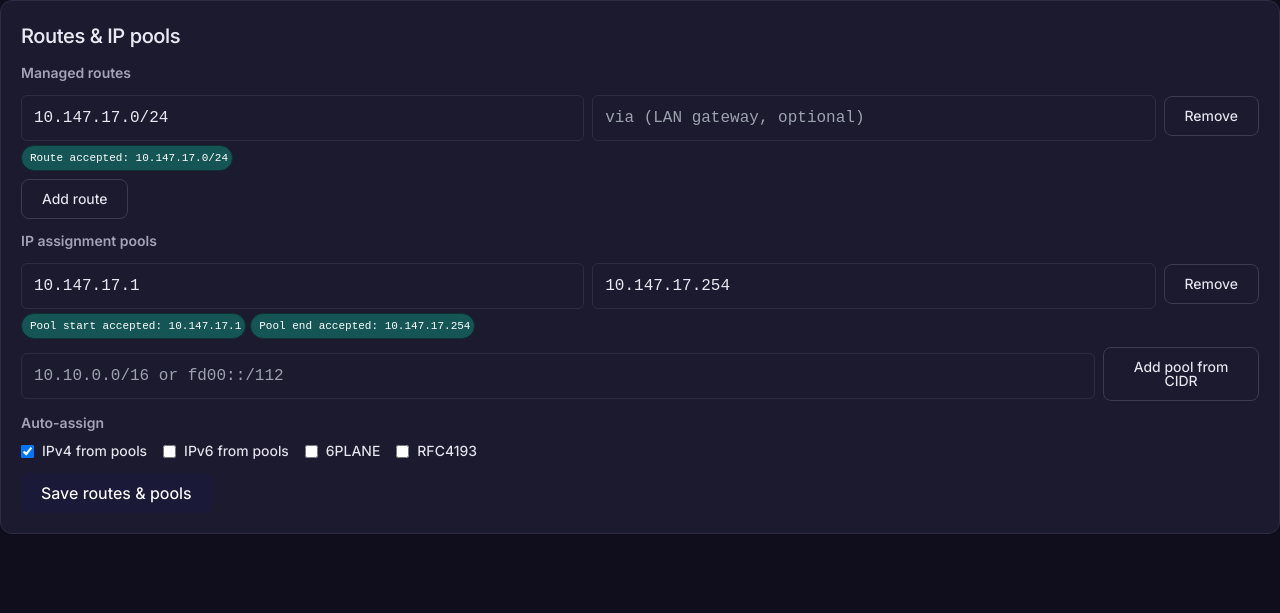
Test: RoutesEditor › shows accepted chips for IPv6 route, pool, and CIDR helper fields (M8)
The width and height of the screenshot is (1280, 613).
Step 1. Replace the text in the field named "route target 1" with "fd00::/112" → coordinates (303, 118), box [21,95,584,141]
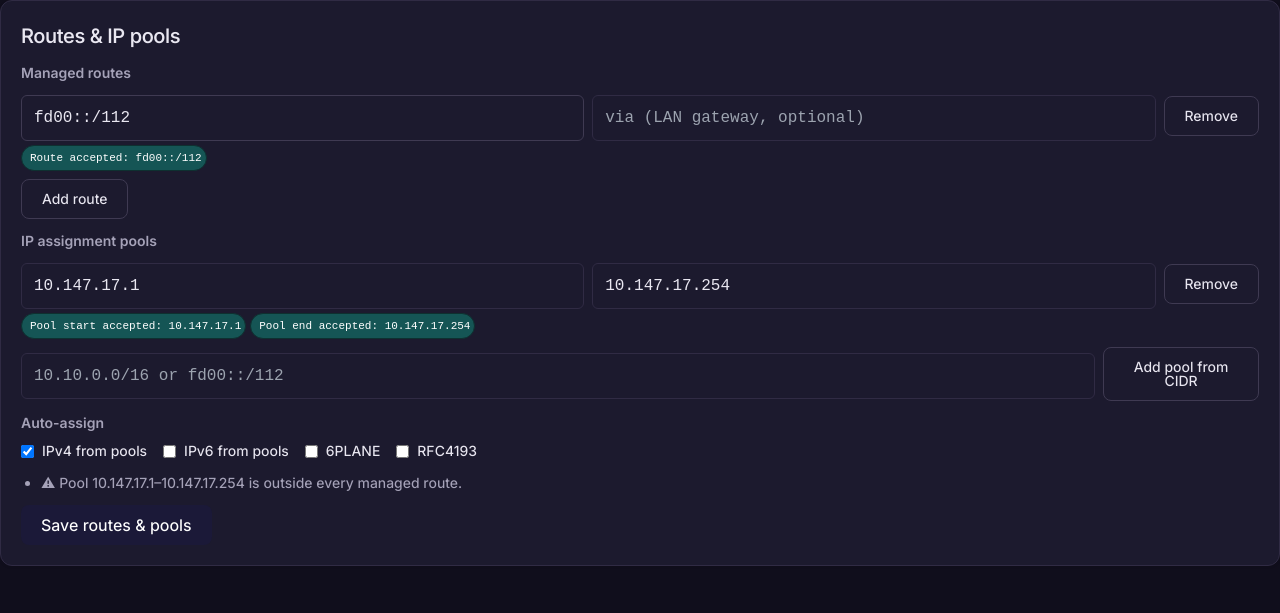
Step 2. Replace the text in the field named "pool start 1" with "fd00::1" → coordinates (303, 286), box [21,263,584,309]
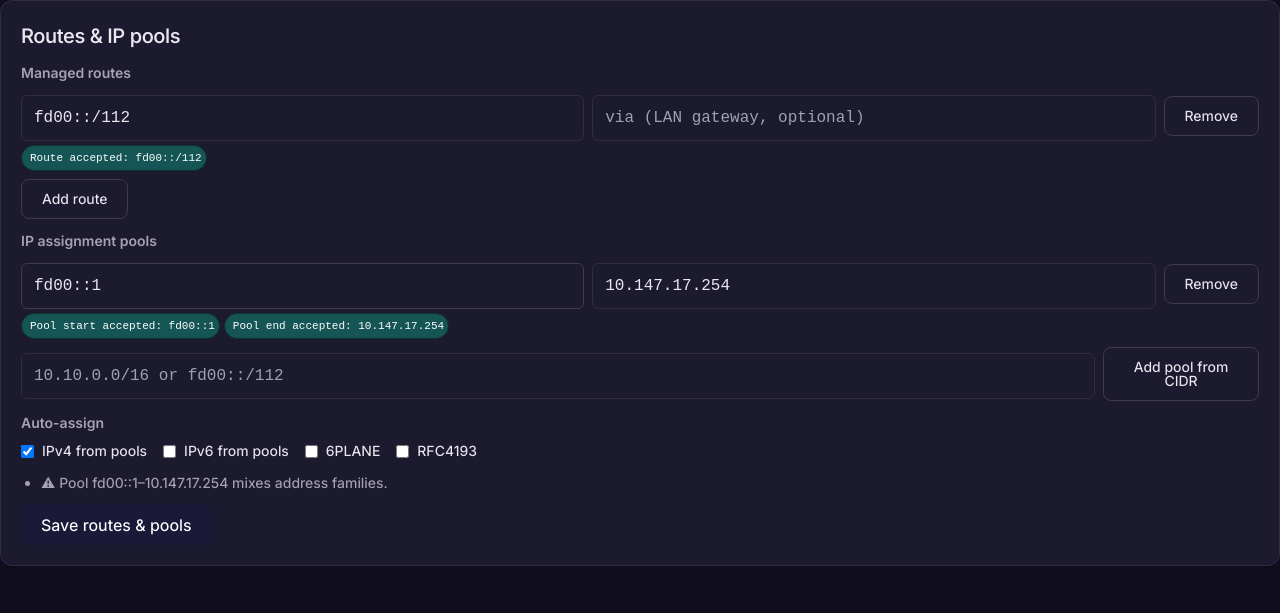
Step 3. Type "fd00::/112" into the field with placeholder "10.10.0.0/16 or fd00::/112" → coordinates (558, 376), box [21,353,1095,399]
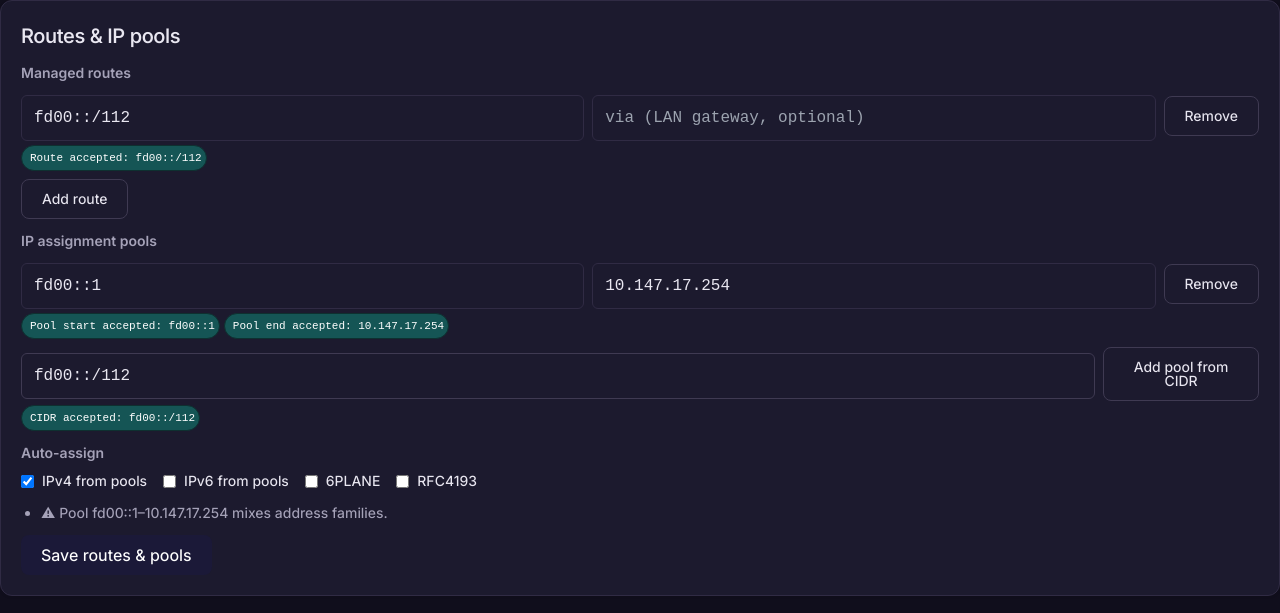
Expected: the text "Route accepted: fd00::/112" is shown, [30,148,202,168]
Expected: the text "Pool start accepted: fd00::1" is shown, [30,316,215,336]
Expected: the text "CIDR accepted: fd00::/112" is shown, [30,408,195,428]
